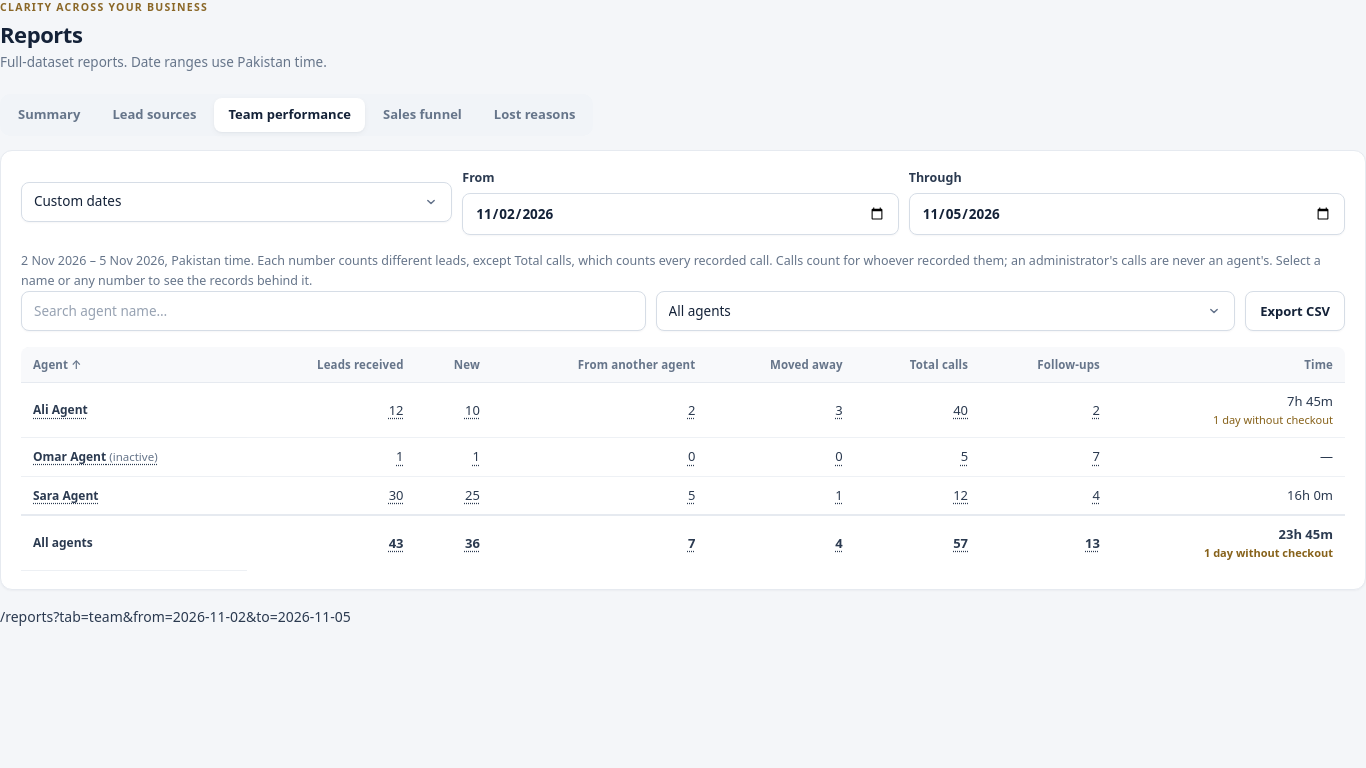
Scenario: Team performance (update 071) › opens the follow-up leads behind a number, for that agent and period
Click the button named "Ali Agent: Follow-ups 2. Show the records" at (1096, 410), box x1=1092 y1=401 x2=1100 y2=420
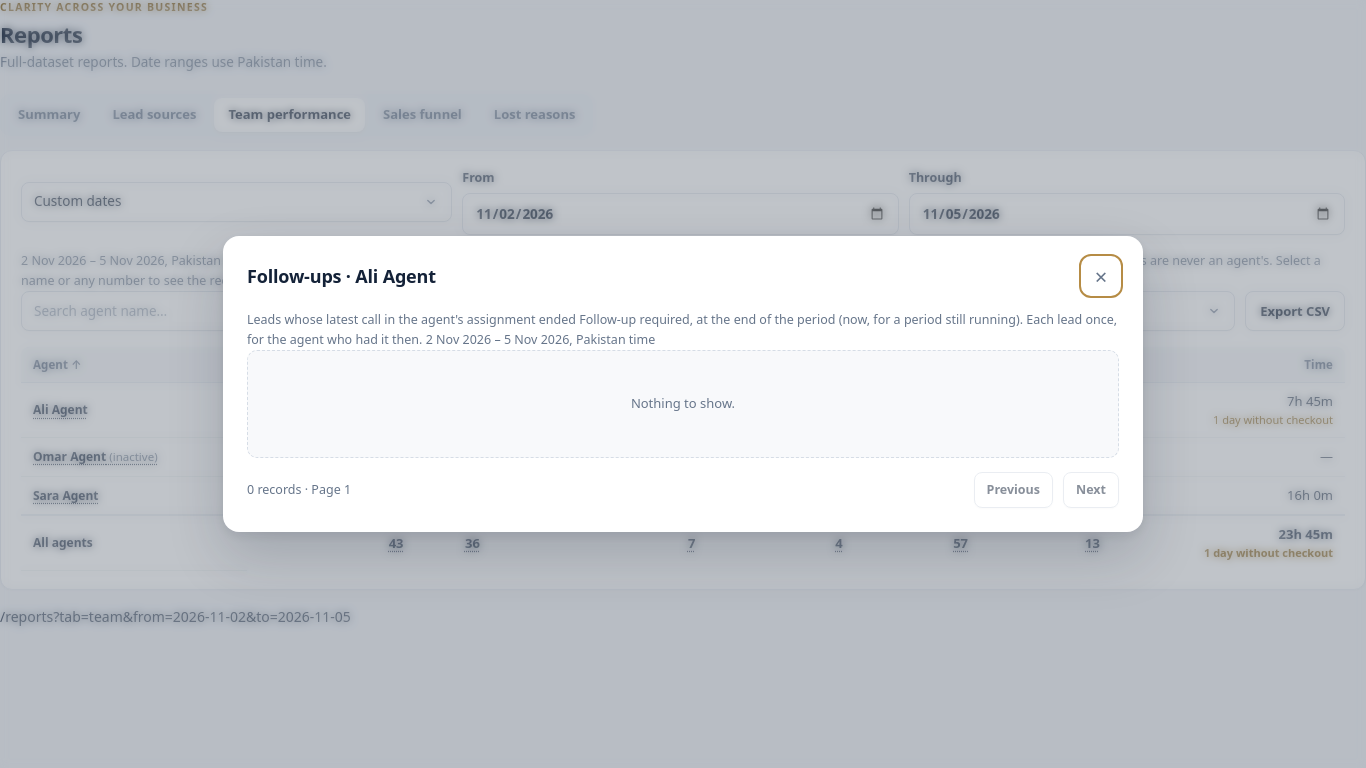
expect the dialog "Follow-ups · Ali Agent" shows "Each lead once": met, box x1=247 y1=311 x2=1117 y2=348
